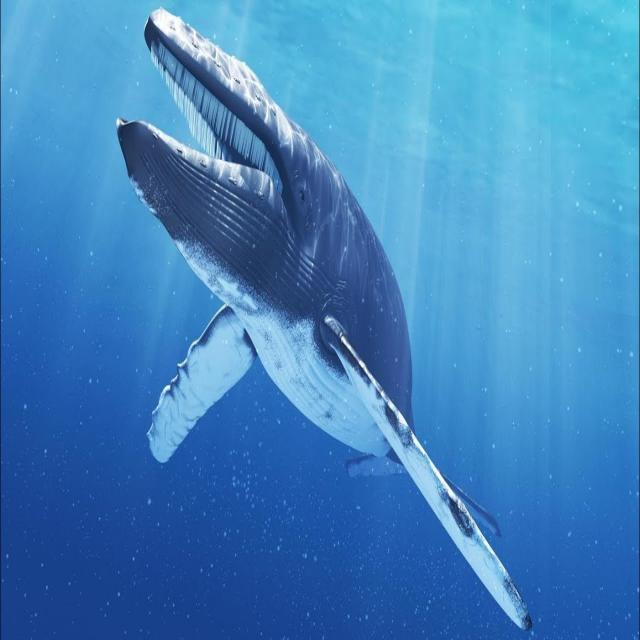blue_whale: (109, 8, 540, 638)
